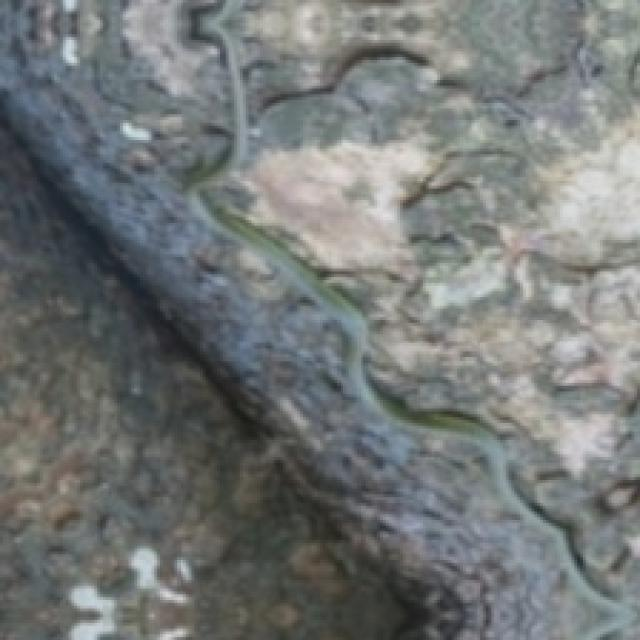paradise tree snake: (197, 0, 637, 637)
